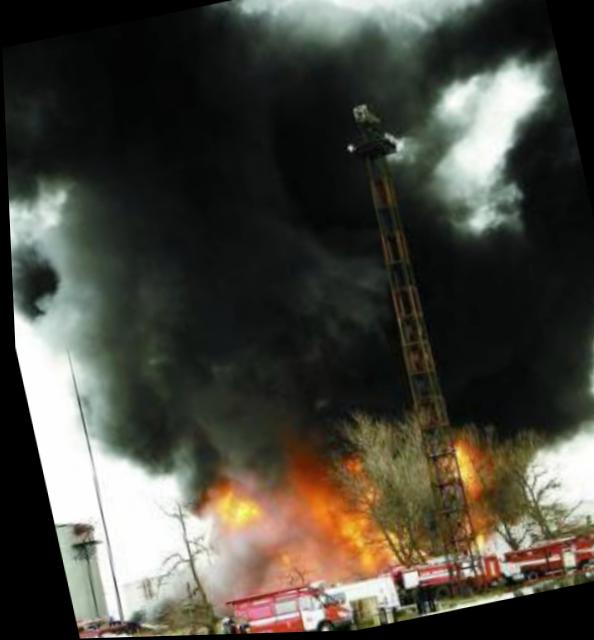fire: (294, 465, 377, 582), (442, 437, 480, 499), (202, 483, 251, 526)
